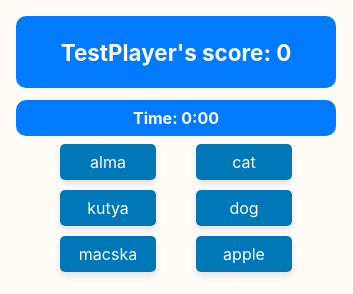
Test: Game Component › checks for correct match
Note: Select matching words
Click the text "alma". click: (108, 162)
box: x1=60 y1=144 x2=156 y2=180
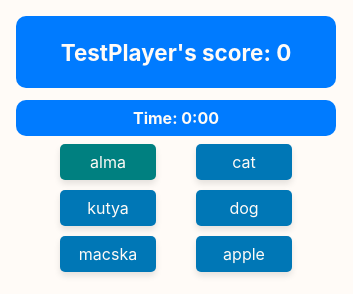
Click the text "apple". click: (244, 254)
box: x1=196 y1=236 x2=292 y2=272
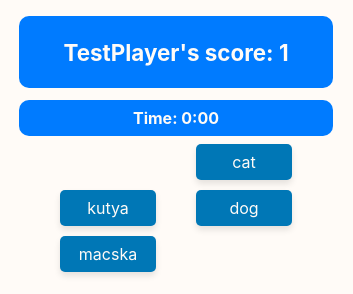
Check: the text "TestPlayer's score: 1" is shown, box x1=19 y1=16 x2=333 y2=88
